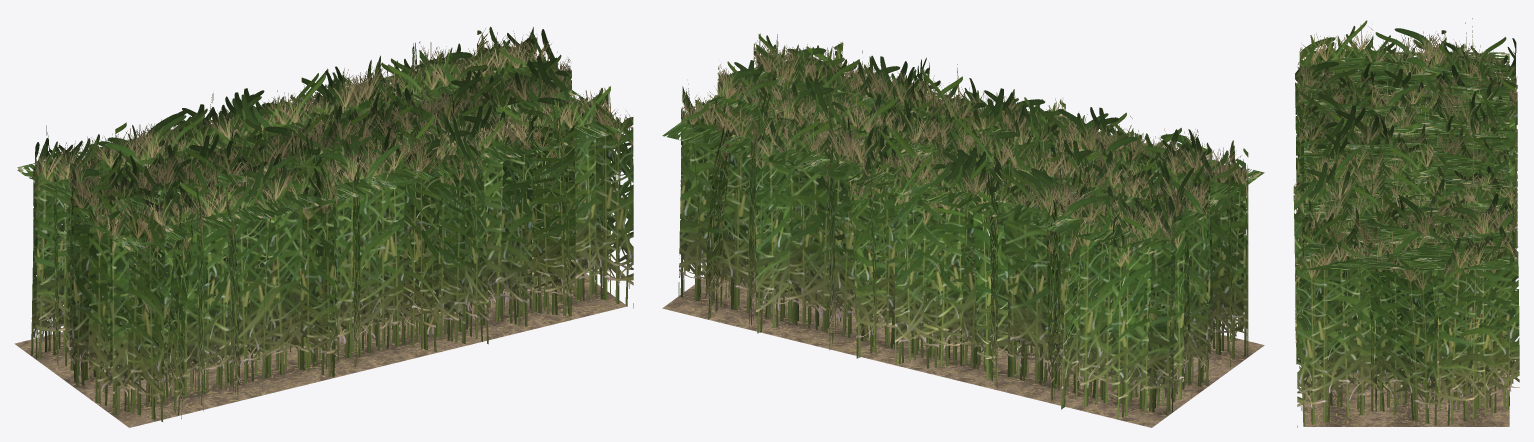
The model's file is crop_corn_row.glb.
The picture shows the model from 3 angles, left to right: view 1: azimuth 30°, elevation 25°; view 2: azimuth 150°, elevation 25°; view 3: azimuth 270°, elevation 25°; orthographic projection. The views are drawn at different scales.
Visible parts, largest first — view 1: crop_corn_row_LOD0, crop_corn_row_FAR, crop_corn_row_FLOOR; view 2: crop_corn_row_LOD0, crop_corn_row_FAR, crop_corn_row_FLOOR; view 3: crop_corn_row_LOD0, crop_corn_row_FAR, crop_corn_row_FLOOR.
Boxes of the visible parts, x1,y1,x2,y2 form: crop_corn_row_LOD0: (31,26,633,421); crop_corn_row_FAR: (17,37,625,387); crop_corn_row_FLOOR: (14,274,626,427); crop_corn_row_LOD0: (678,33,1248,418); crop_corn_row_FAR: (662,40,1264,385); crop_corn_row_FLOOR: (662,259,1264,427); crop_corn_row_LOD0: (1293,18,1519,427); crop_corn_row_FAR: (1304,52,1509,269); crop_corn_row_FLOOR: (1304,350,1509,426).
Size of what is drawn, in the model's own units: 6.17 by 2.54 by 2.64.
2 materials, 2 textured.
